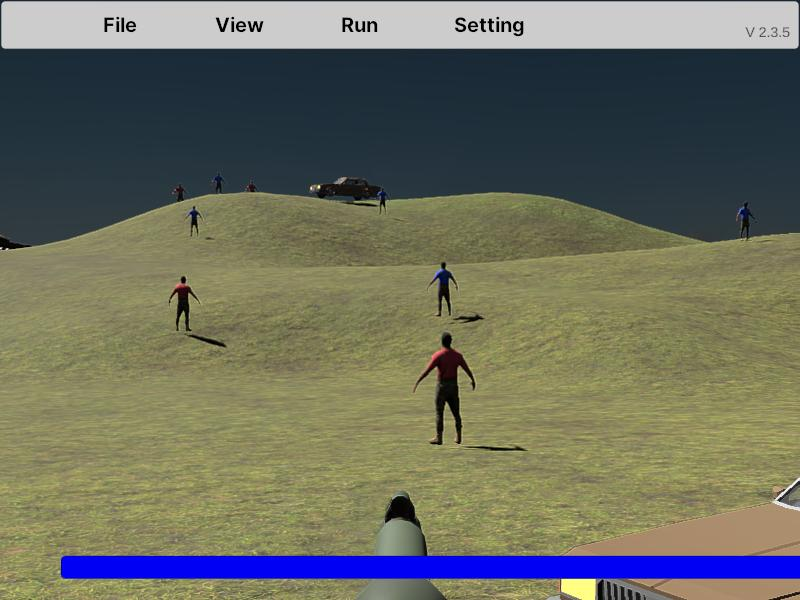Human: (413, 331, 475, 445), (169, 275, 201, 333), (428, 261, 458, 317)
car: (571, 464, 800, 600), (310, 176, 387, 203)
